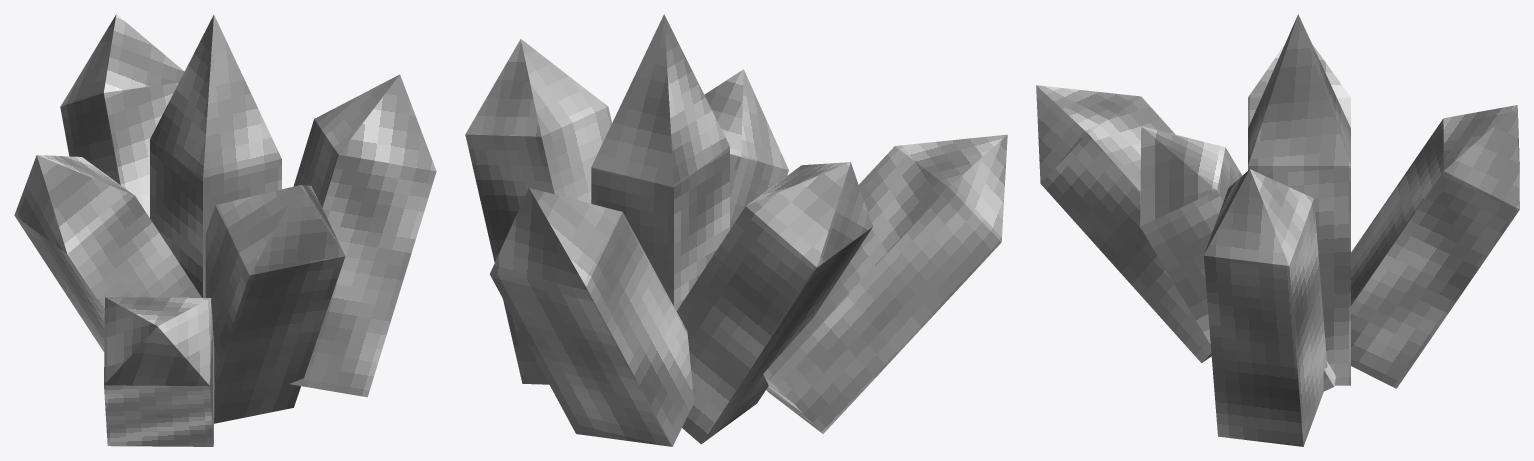
File: crystal_small.obj
3 renders of one model, left to right at view 1: azimuth 30°, elevation 25°; view 2: azimuth 150°, elevation 25°; view 3: azimuth 270°, elevation 25°, orthographic. The views are drawn at different scales.
Visible parts, largest first — view 1: Cube.004_Cube.005; view 2: Cube.004_Cube.005; view 3: Cube.004_Cube.005.
Boxes of the visible parts, x1,y1,x2,y2 form: Cube.004_Cube.005: (14, 14, 436, 446); Cube.004_Cube.005: (465, 14, 1007, 446); Cube.004_Cube.005: (1036, 14, 1519, 446).
Bounding box in the file's own units: 0.4935 × 0.4527 × 0.5208.
